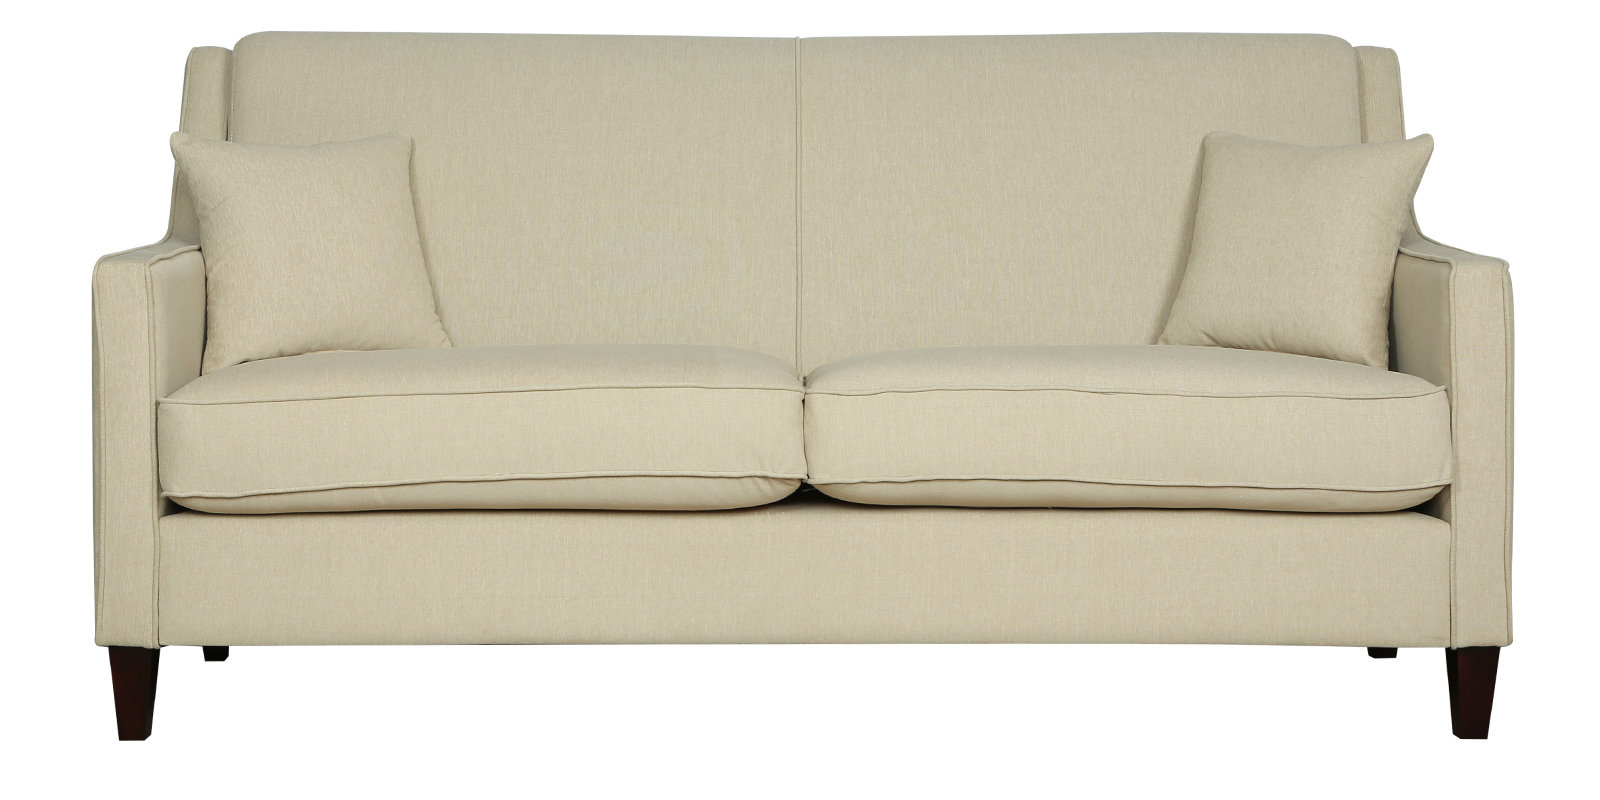Oscar Three Seater Sofa in Beige Colour by CasaCraft: (87, 29, 1516, 741)
